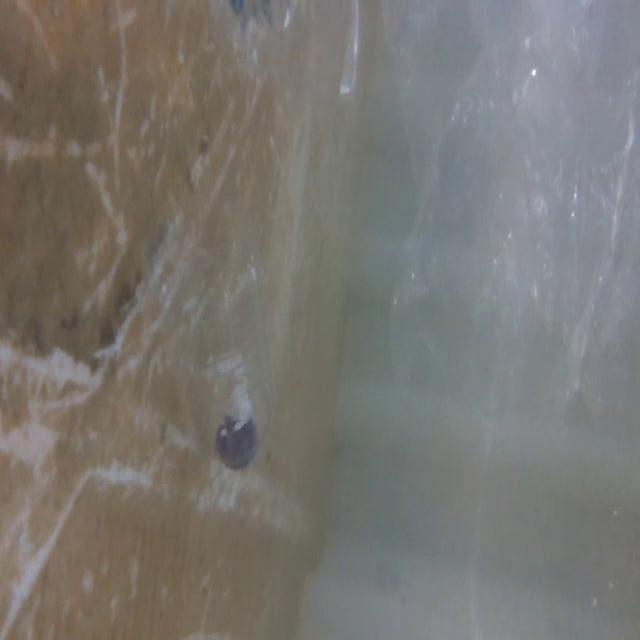plastic bags: (375, 0, 638, 425), (173, 0, 365, 110)
plastic bottle: (139, 186, 281, 524)
